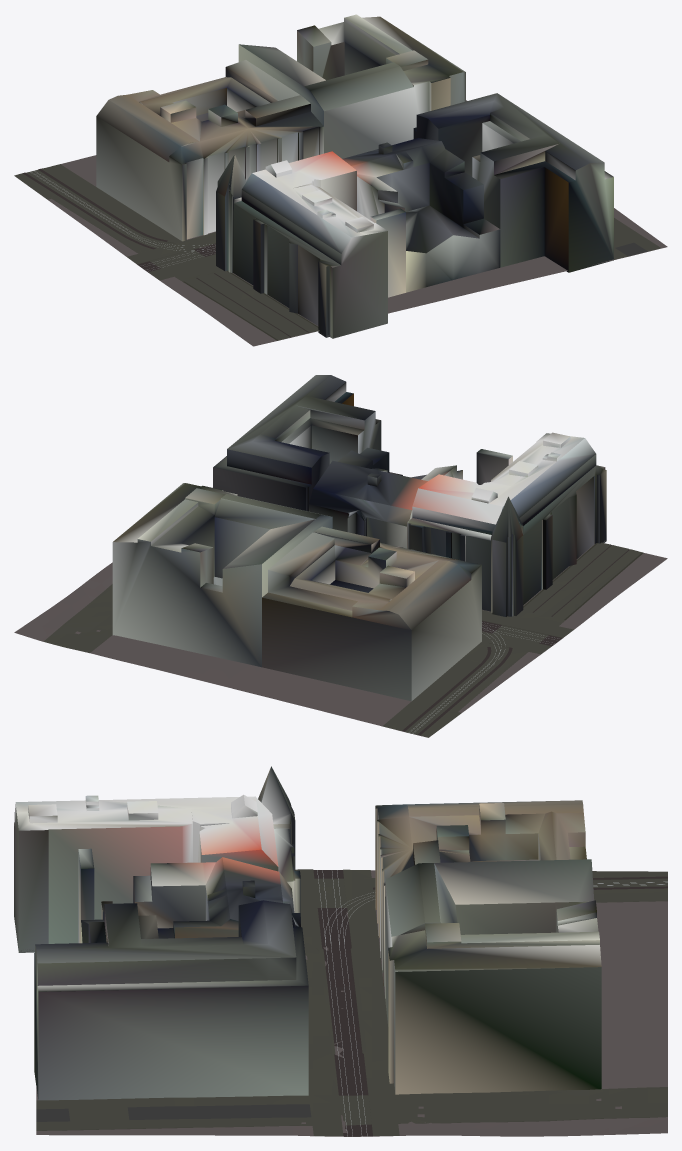
The picture shows the model from 3 angles, top to bottom: view 1: azimuth 30°, elevation 25°; view 2: azimuth 150°, elevation 25°; view 3: azimuth 270°, elevation 25°; orthographic projection. The views are drawn at different scales.
Visible parts, largest first — view 1: c_m03_p00; view 2: c_m03_p00; view 3: c_m03_p00.
Boxes of the visible parts, bbox=[...] form: c_m03_p00: bbox=[14, 14, 667, 346]; c_m03_p00: bbox=[14, 375, 667, 737]; c_m03_p00: bbox=[14, 766, 667, 1136].
Bounding box in the file's own units: 128 × 33.8 × 132.
